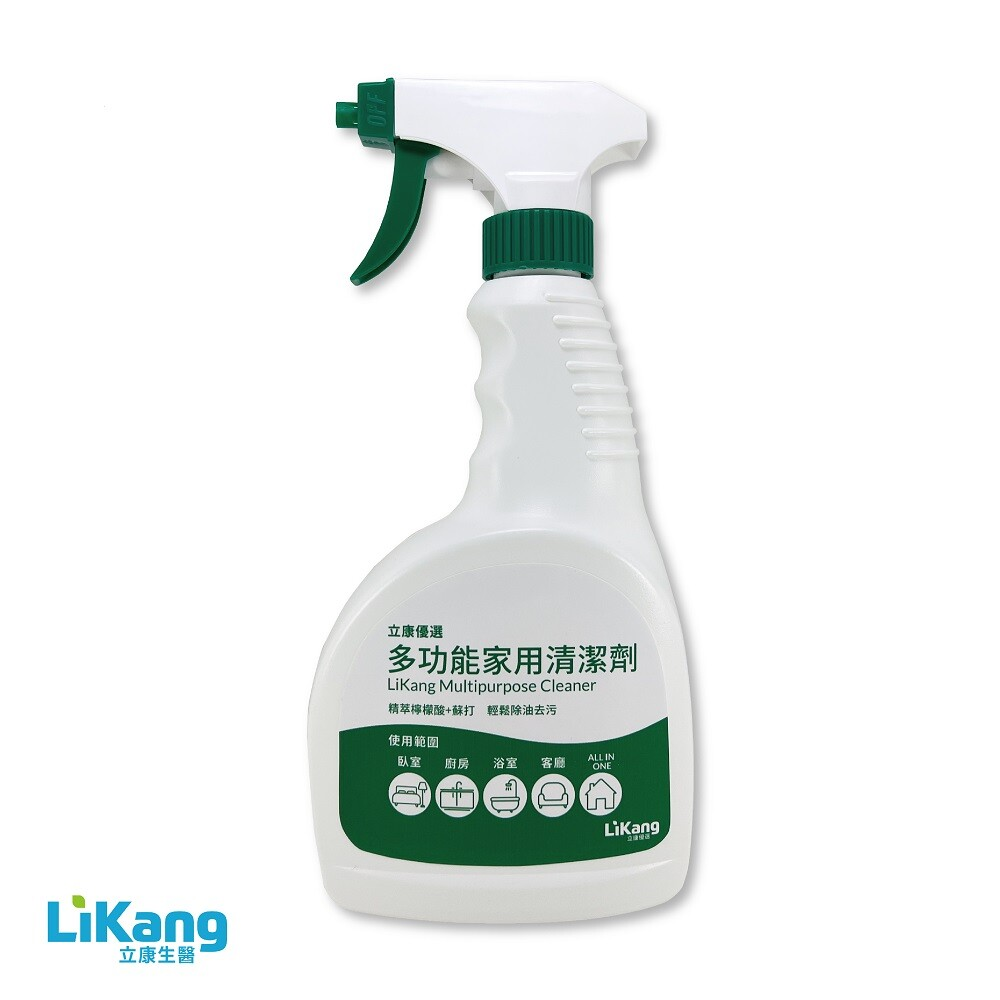cleaner: (293, 62, 728, 933)
